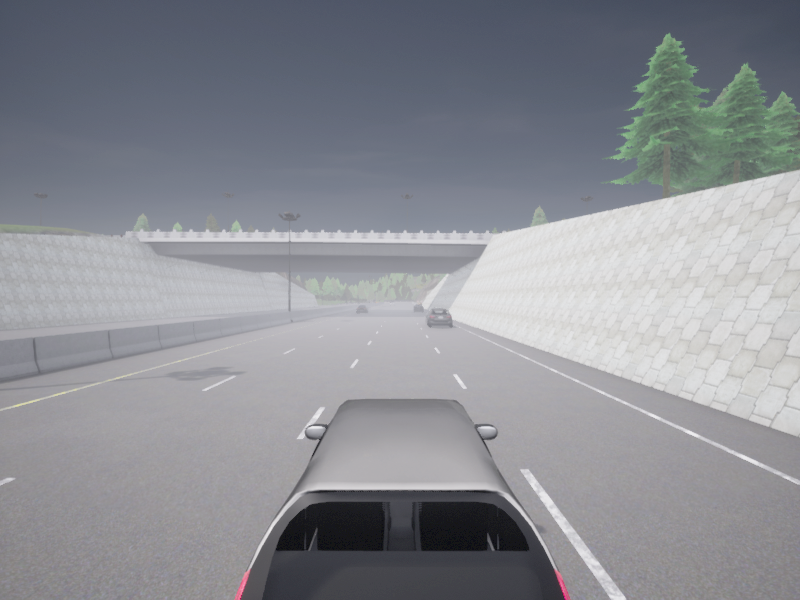vehicle: (235, 399, 570, 599), (426, 308, 452, 326), (356, 305, 368, 312), (413, 304, 423, 312), (390, 301, 394, 305)
